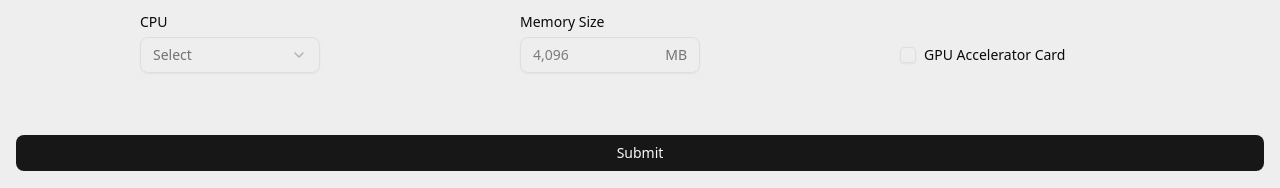
Scenario: Server composer form › Invalid memory size: less than 1024
Type "16" into the field labelled "Memory Size".
click(595, 55); type("16")  # box [533,45,657,65]
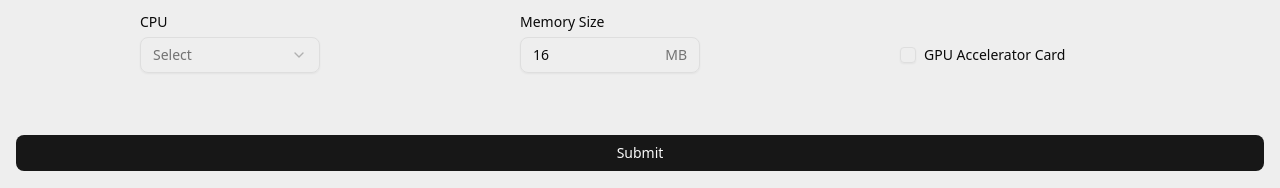
Click the button "Submit".
click(640, 153)  # box [16,135,1264,171]
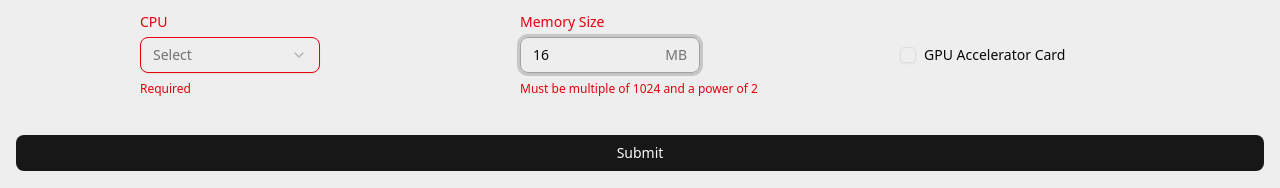
Now the text "Must be multiple of 1024 and a power of 2" is shown, box [520,81,760,97]
